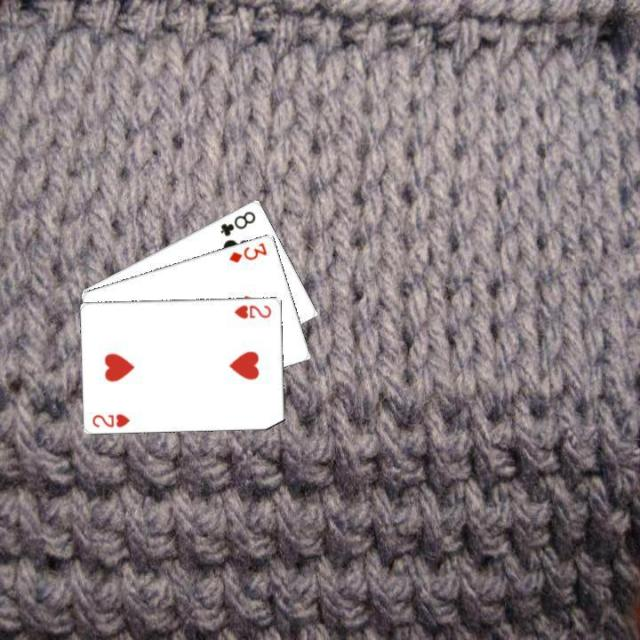2H: (230, 300, 274, 320), (89, 409, 131, 428)
3D: (225, 238, 269, 264)
8C: (216, 207, 258, 237)
